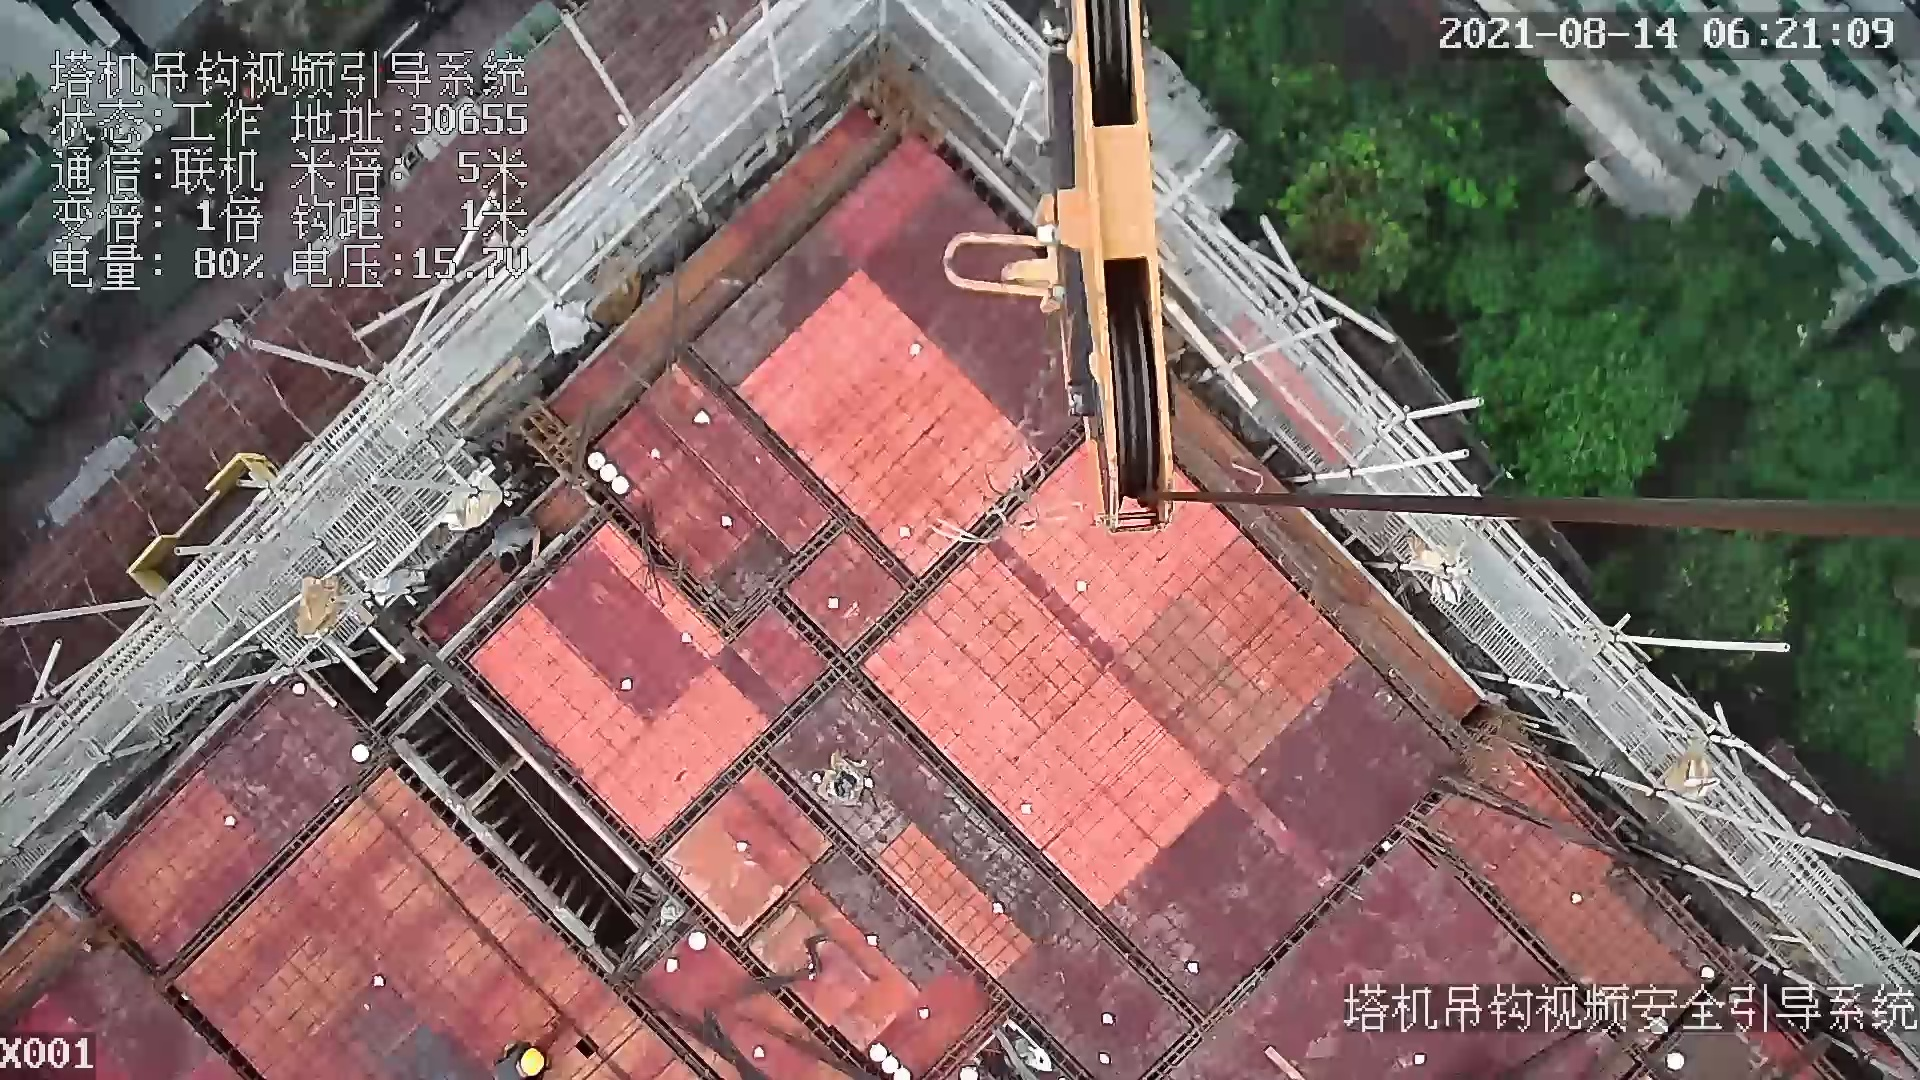helmet: (516, 1042, 551, 1079)
hook: (1058, 1, 1183, 538)
person: (491, 516, 545, 575), (492, 1038, 551, 1080)
